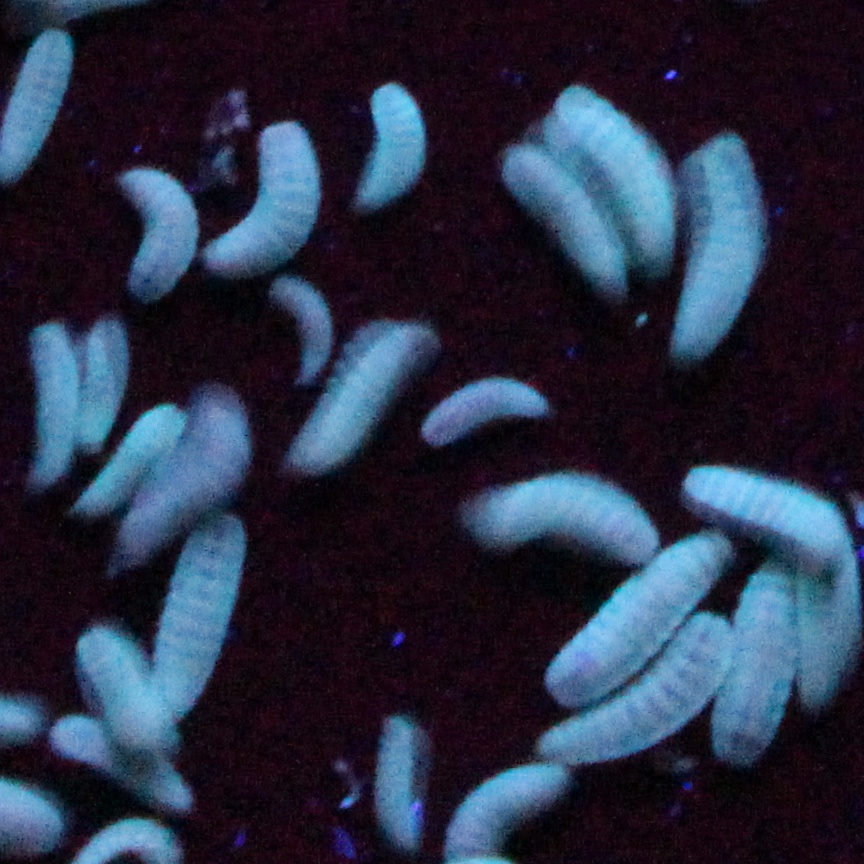larve: (549, 536, 727, 699), (547, 82, 680, 269), (545, 619, 714, 761), (474, 449, 654, 569), (687, 454, 847, 581), (500, 142, 620, 309), (154, 514, 245, 732), (716, 556, 798, 772), (214, 116, 320, 282), (314, 316, 427, 469), (687, 136, 760, 362), (127, 169, 207, 322), (62, 714, 187, 801), (420, 376, 567, 449), (76, 628, 165, 741), (34, 302, 80, 502), (367, 89, 434, 222), (87, 410, 178, 505), (378, 719, 425, 841), (280, 283, 329, 381)
